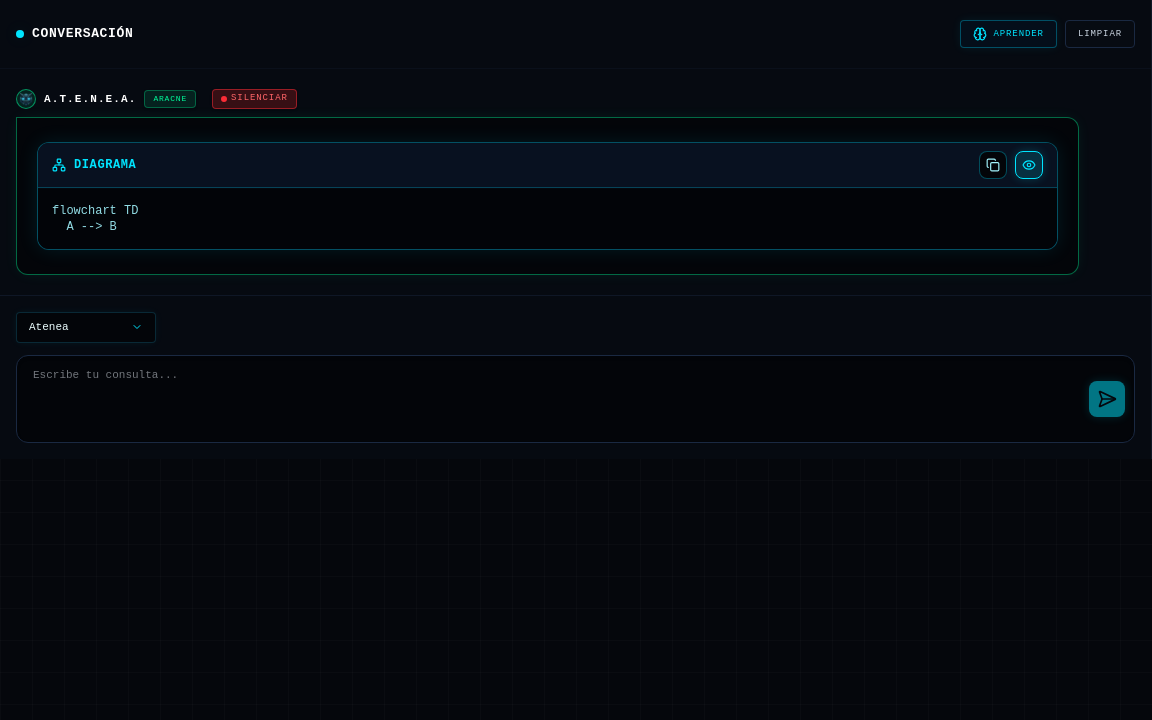
Scenario: ChatPanel.vue › opens DiagramModal when clicking Ver diagrama button
This screenshot has width=1152, height=720.
Step 1. Click the button with test id "chat-diagram-view-btn" → (1029, 165), box [1015,151,1043,179]
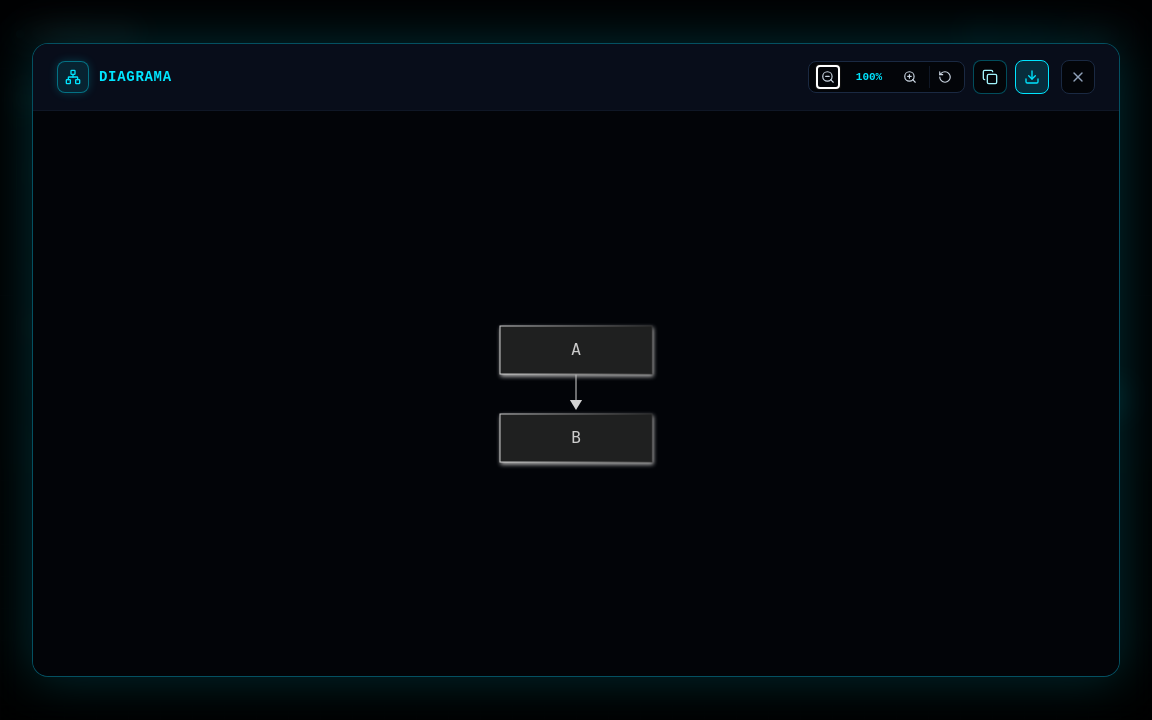
Now the dialog with test id "diagram-modal-backdrop" is shown
